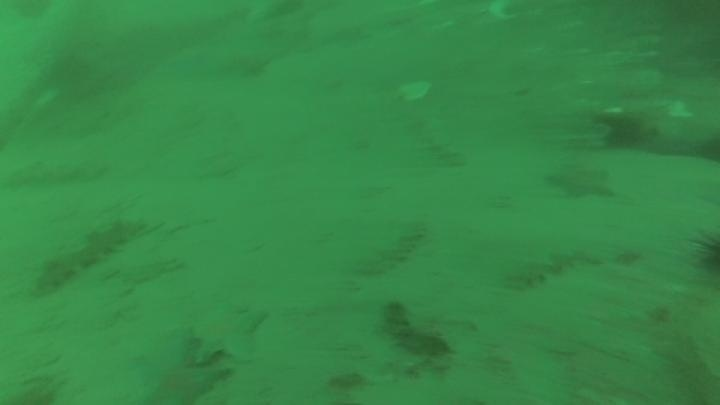echinus: (600, 111, 648, 153), (687, 226, 720, 283)
holothurian: (32, 210, 155, 296), (500, 244, 599, 294), (351, 219, 429, 280)
starfish: (129, 328, 233, 405), (185, 299, 271, 368), (543, 157, 618, 204)
